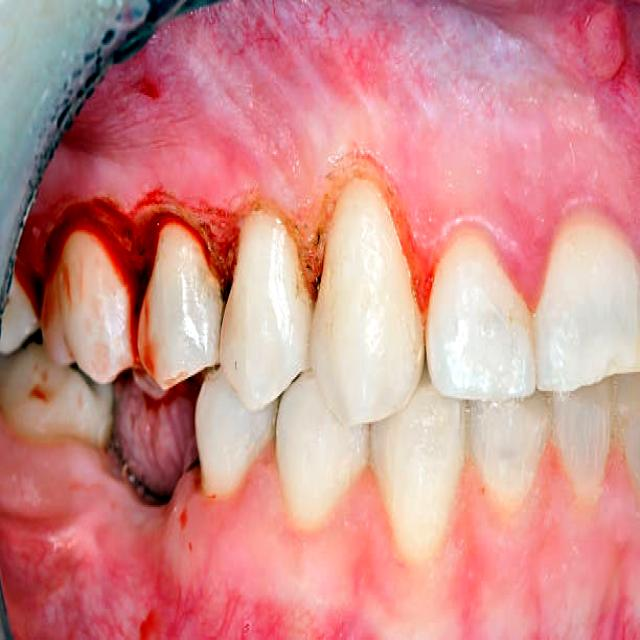gingivitis: (18, 0, 639, 310), (139, 498, 639, 638)
